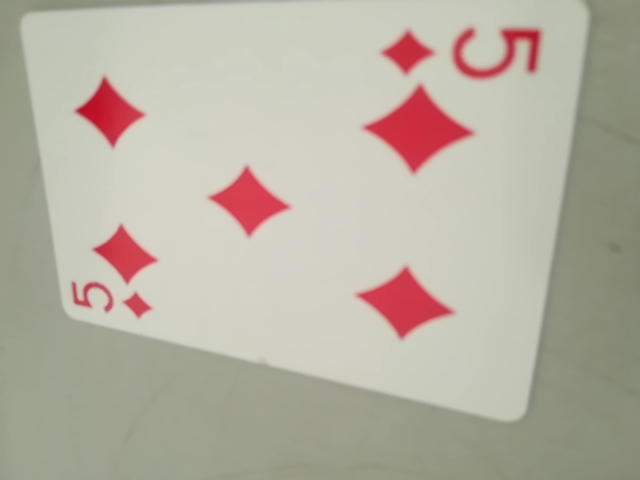fk 5: (376, 15, 547, 87), (64, 275, 154, 326)
